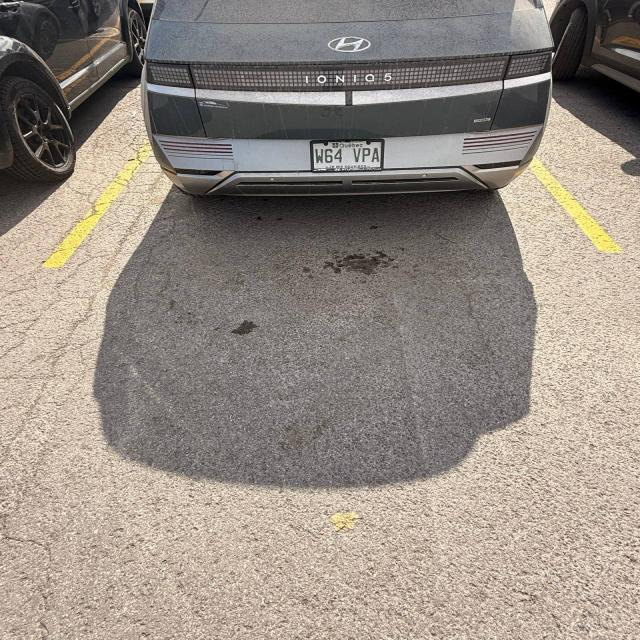plaque: (312, 140, 383, 171)
